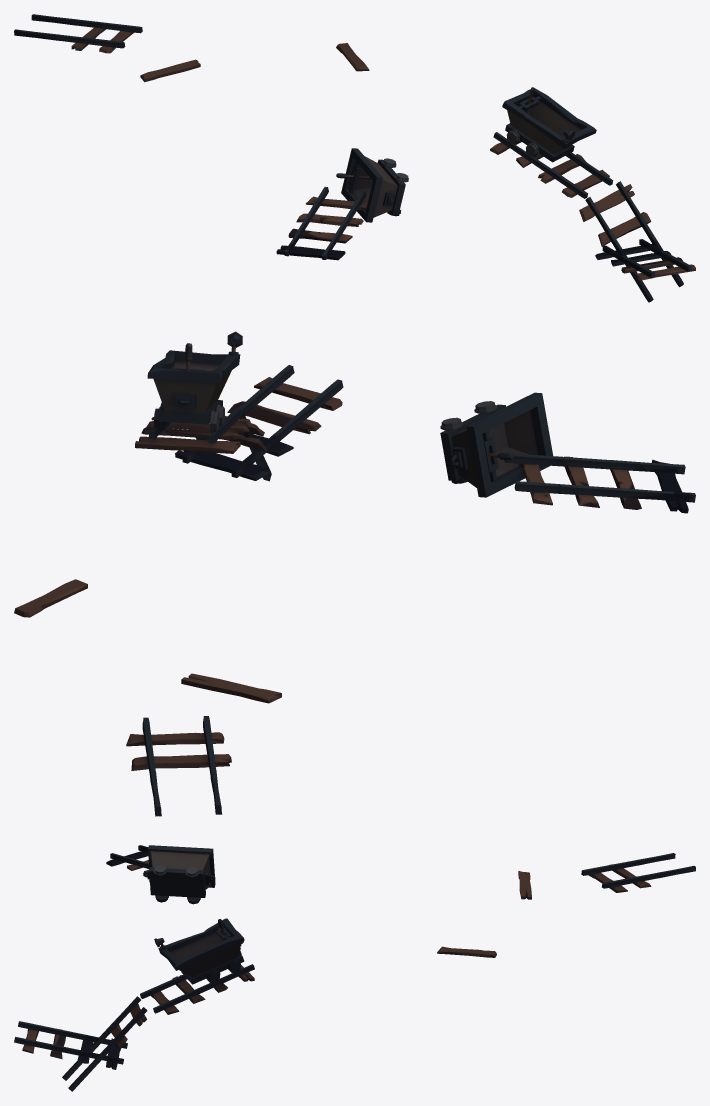
File: Rail_01.FBX
3 views of the same model, one above another, from view 1: azimuth 30°, elevation 25°; view 2: azimuth 150°, elevation 25°; view 3: azimuth 270°, elevation 25° (orthographic). The views are drawn at different scales.
Parts seen in each view (by area): view 1: Rail_01; view 2: Rail_01; view 3: Rail_01.
Boxes of the visible parts, x1,y1,x2,y2 form: Rail_01: (14,14,695,302); Rail_01: (14,331,695,816); Rail_01: (14,845,695,1091).
Bounding box in the file's own units: 13.31 × 5.65 × 23.79.
